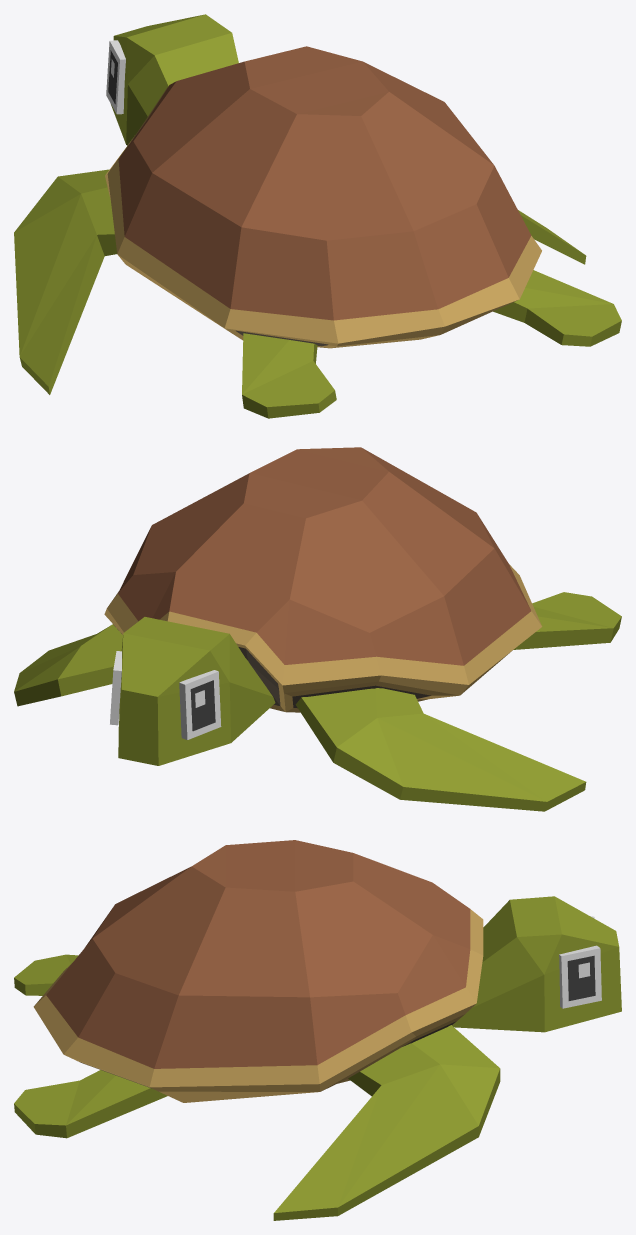
Rendered from frame_01.fbx.
3 views of the same model, one above another, from view 1: azimuth 30°, elevation 25°; view 2: azimuth 150°, elevation 25°; view 3: azimuth 270°, elevation 25° (orthographic). The views are drawn at different scales.
Parts seen in each view (by area): view 1: Plane.003; view 2: Plane.003; view 3: Plane.003.
Part boxes in pixels (box(x1,y1,x2,y2)): Plane.003: box(14, 14, 621, 418); Plane.003: box(14, 447, 621, 811); Plane.003: box(14, 840, 621, 1220).
Bounding box in the file's own units: 9.69 × 4.25 × 10.08.
